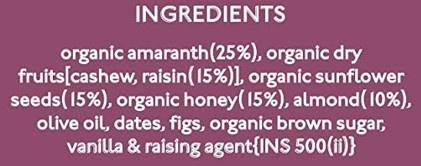ingredients: (4, 0, 413, 163)
